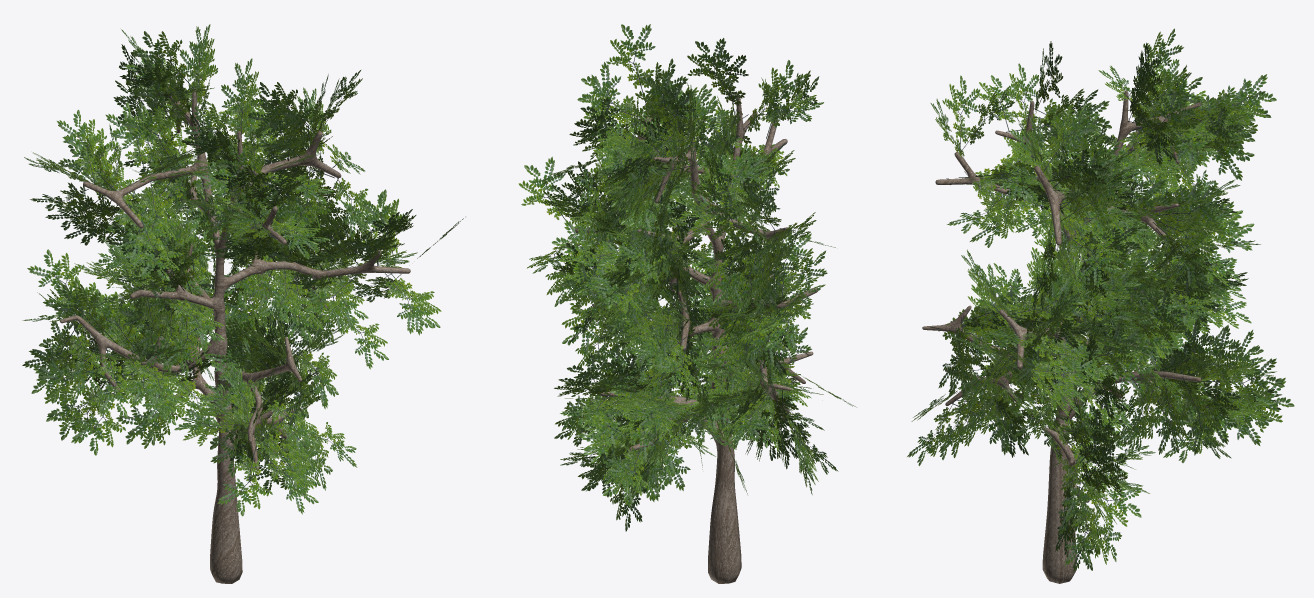
The model's file is tree.obj.
3 renders of one model, left to right at view 1: azimuth 30°, elevation 25°; view 2: azimuth 150°, elevation 25°; view 3: azimuth 270°, elevation 25°, orthographic. The views are drawn at different scales.
Parts seen in each view (by area): view 1: TreeHighPoly; view 2: TreeHighPoly; view 3: TreeHighPoly.
Boxes of the visible parts, x1=… form: TreeHighPoly: x1=22, y1=24, x2=465, y2=583; TreeHighPoly: x1=518, y1=24, x2=856, y2=583; TreeHighPoly: x1=907, y1=28, x2=1294, y2=583.
Size of the model in its own units: 7.69 by 10.28 by 6.72.
2 materials, 2 textured.
